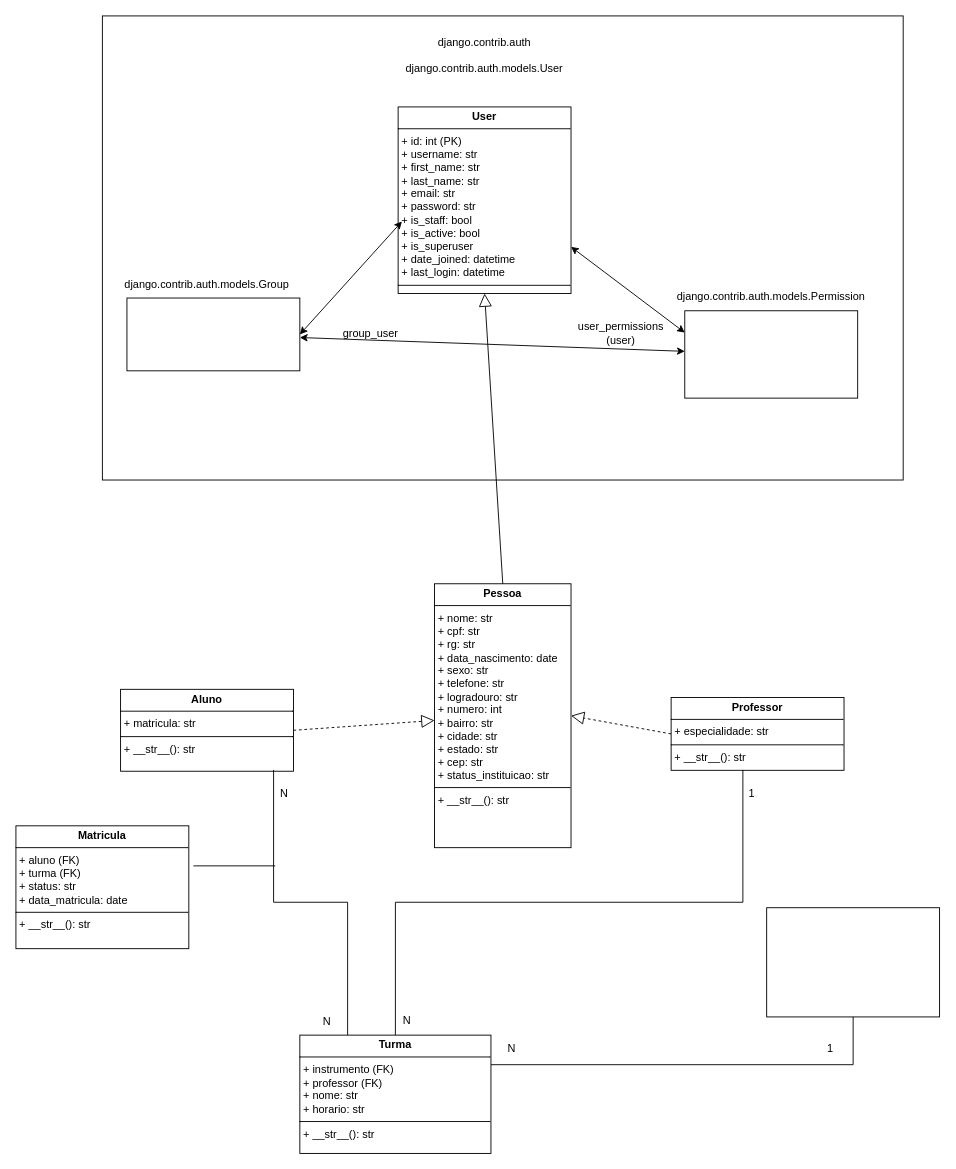
Image size: 956x1169. Some labels were removed from this diagram. The centre of each missing label's shape, as x and y in pixels:
"Group + id: int (PK) + name: str" goes at (x=213, y=334).
"Instrumento + nome: str + tipo: str + marca: str + __str__(): str" goes at (x=853, y=962).
"Permission + id: int (PK) + name: str + codename: str + content_type: int (FK)" goes at (x=771, y=354).
